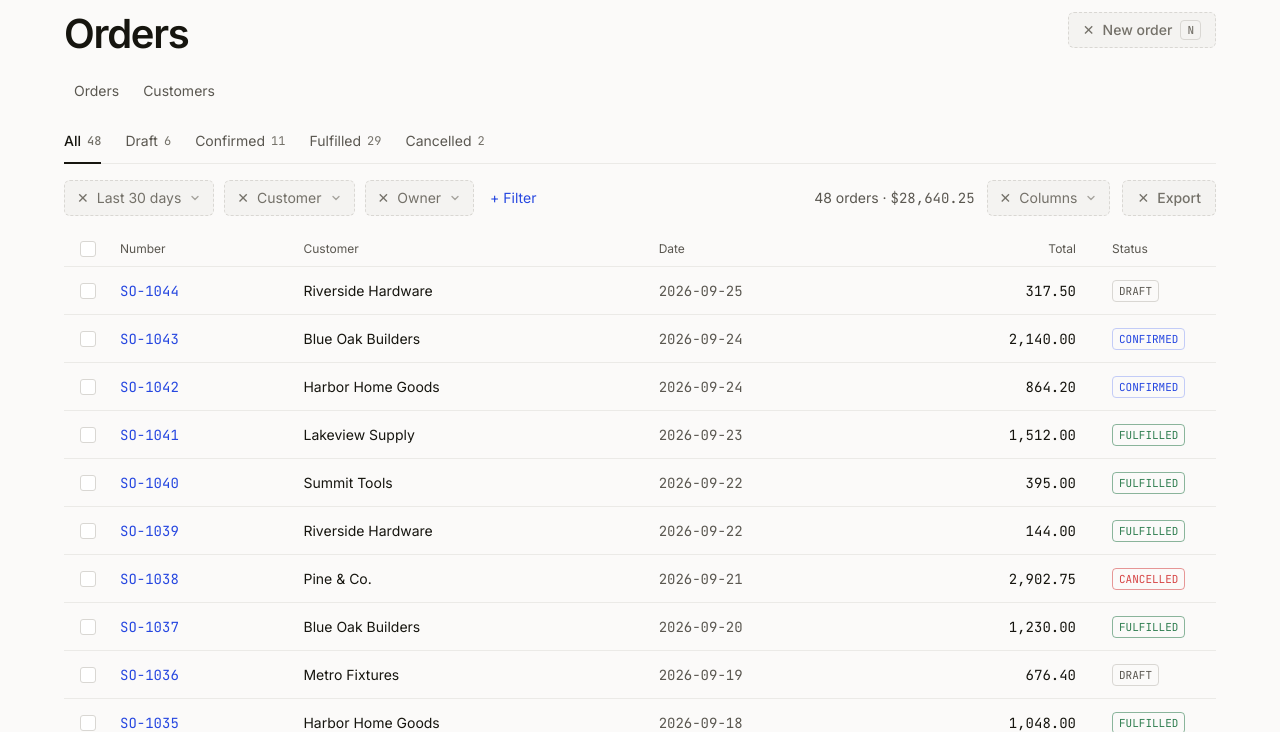
OrdersScreen › filters the table down to drafts
Click the tab "Draft 6".
click(148, 147)  # box left=125, top=130, right=171, bottom=164
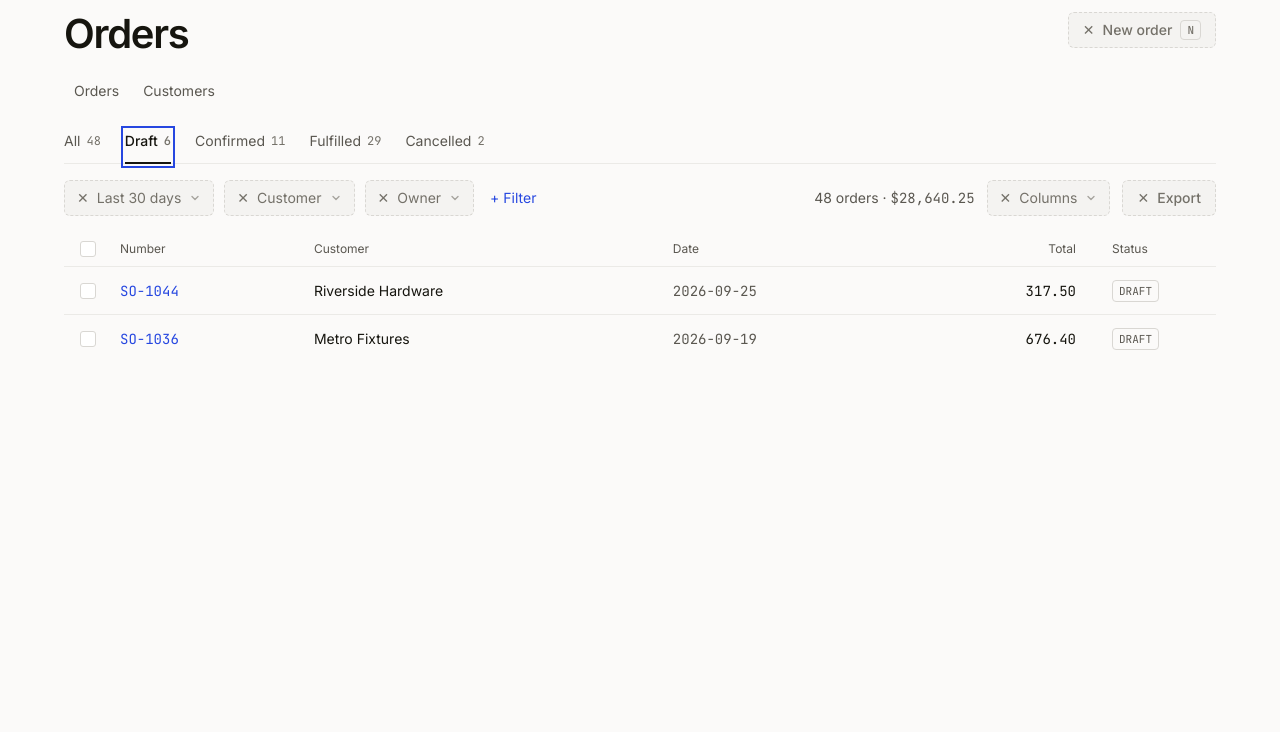
Expected: the link "SO-1044" is shown, left=120, top=282, right=179, bottom=300
Expected: the link "SO-1043" is gone
